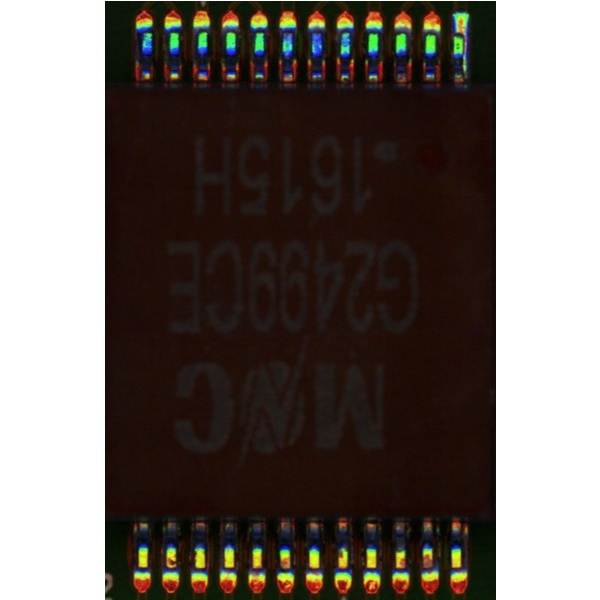Bad_podu: (456, 24, 464, 41)
Bad_qiaojiao: (464, 34, 468, 73)
